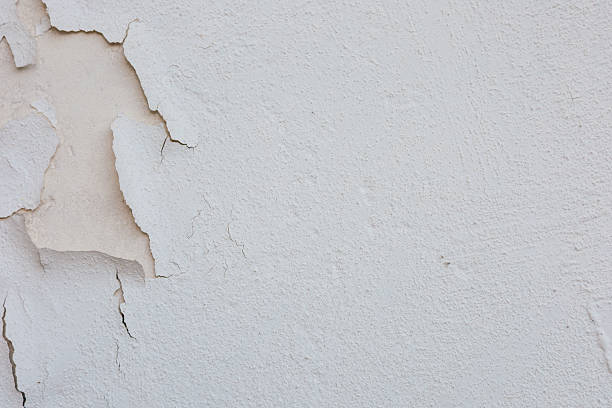wall_peeling: (0, 2, 176, 280)
